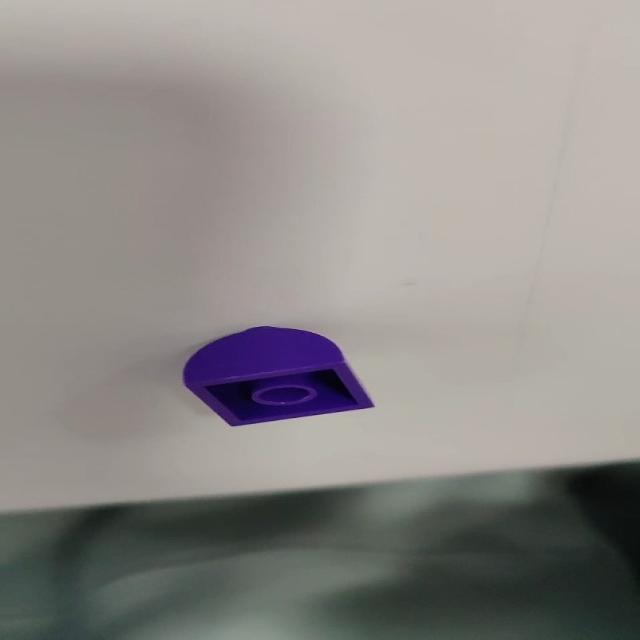H2x2x1: (179, 326, 372, 429)
